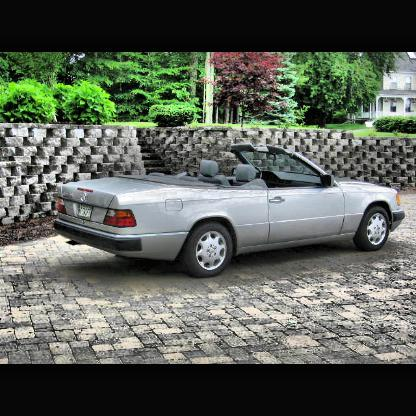Mercedes-Benz 300-Class Convertible 1993: (37, 129, 416, 298)
